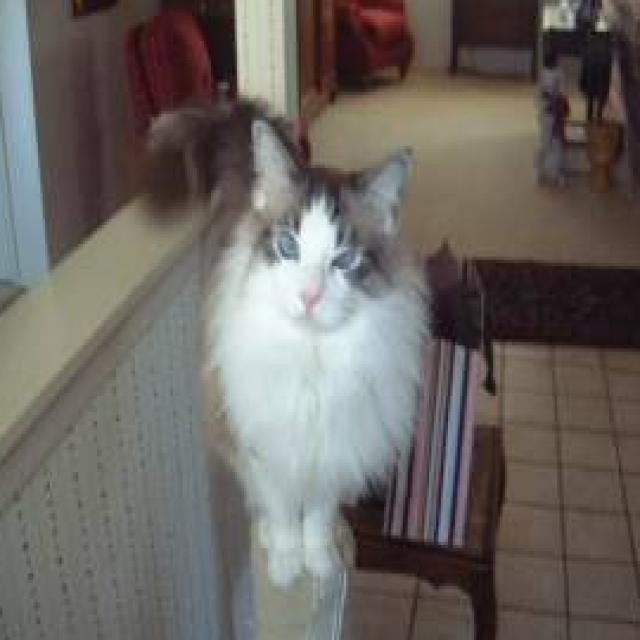Ragdoll: (138, 95, 436, 583)
